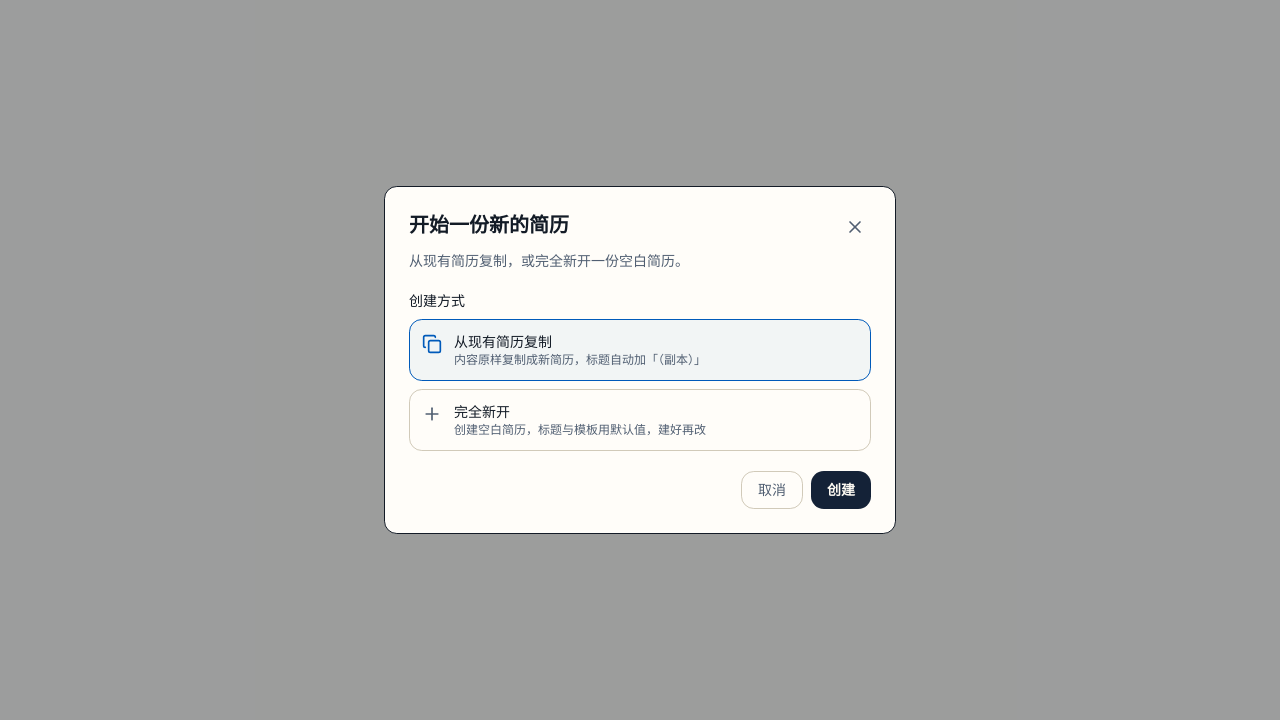
it: 创建简历 Modal：两条链路 › 原简历已不存在时在选择层就地展示 i18n 文案，不透出后端 message，也不跳转
Click the button "创建" at (841, 490), box top-left (811, 471), bottom-right (871, 509)
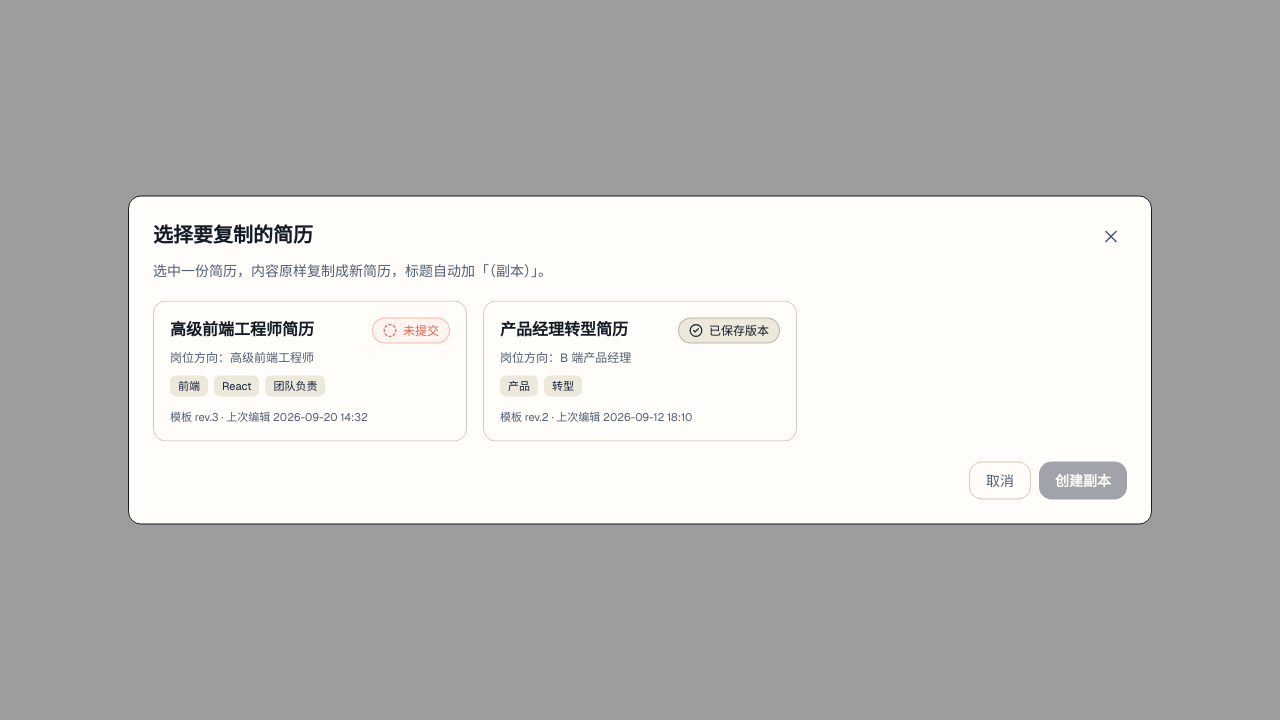
Click the button "高级前端工程师简历" at (242, 329), box top-left (153, 300), bottom-right (467, 442)
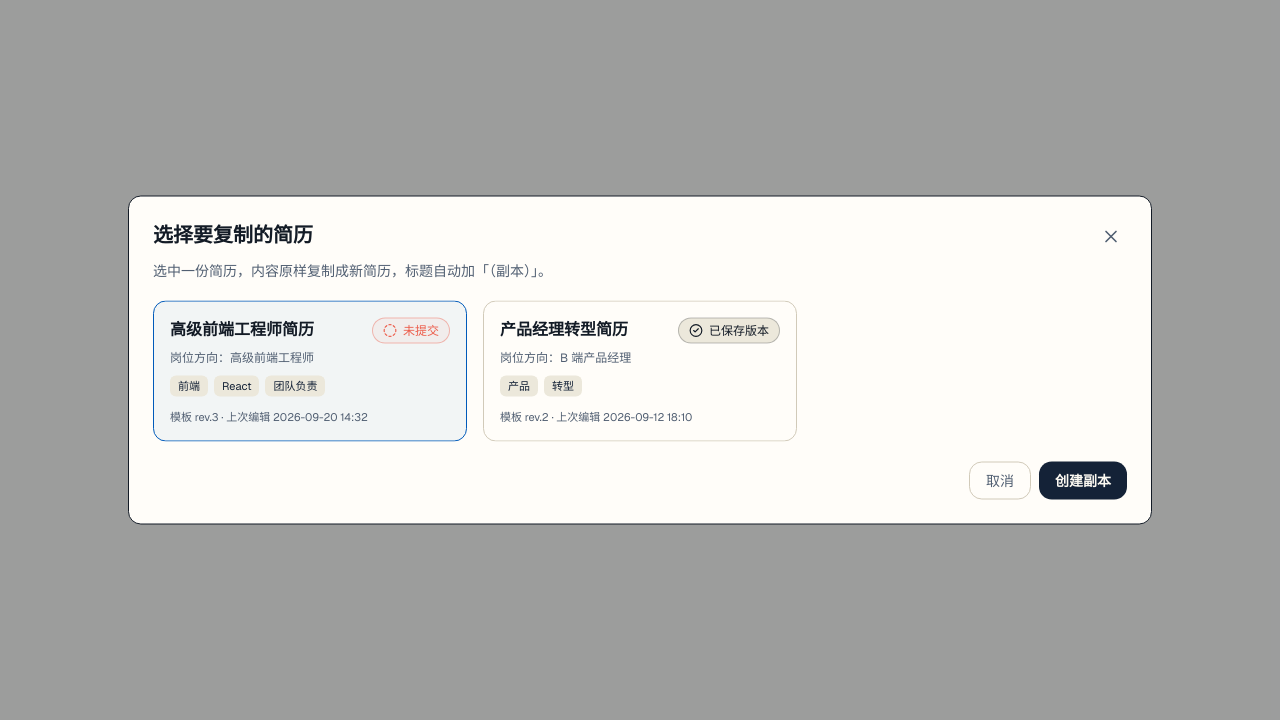
Click the button "创建副本" at (1083, 480), box top-left (1039, 462), bottom-right (1127, 500)
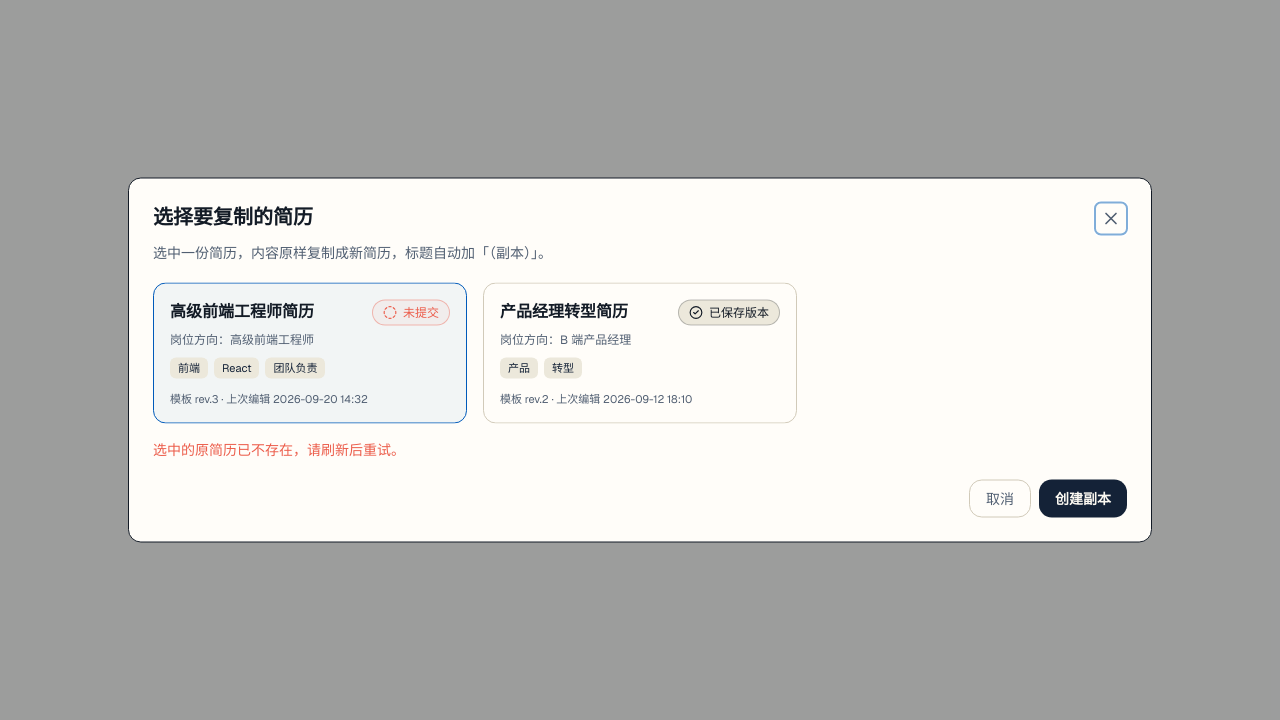
Result: the dialog "选择要复制的简历" is shown at top-left (128, 178), bottom-right (1152, 542)
Result: the message reads "选中的原简历已不存在，请刷新后重试。" at top-left (153, 440), bottom-right (405, 458)
